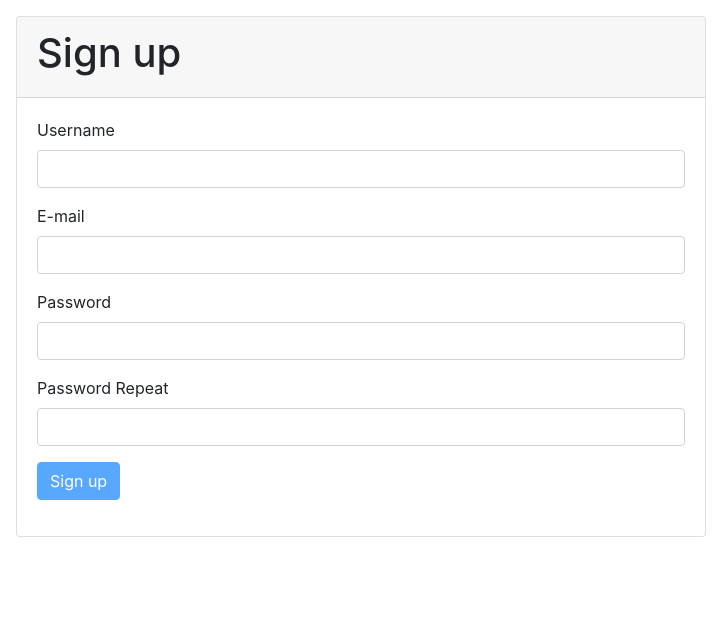
Test: Sign Up › when user sets same value for password inputs › when user submits form › when there is a network error › when user submits again › hides the error when api request in progress
In the field labelled "Username": (361, 169) [37,150,685,188], type "test_user"
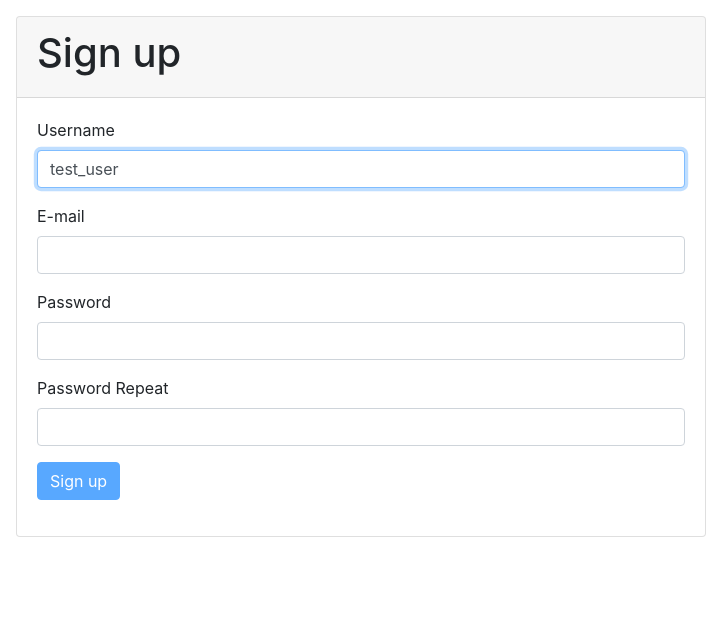
In the field labelled "E-mail": (361, 255) [37,236,685,274], type "text@example.com"
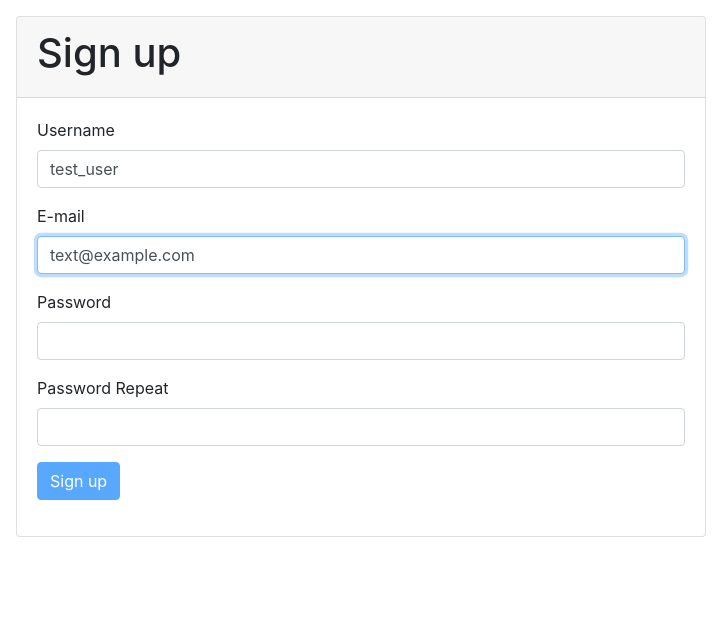
In the password field labelled "Password": (361, 341) [37,322,685,360], type "asdf"
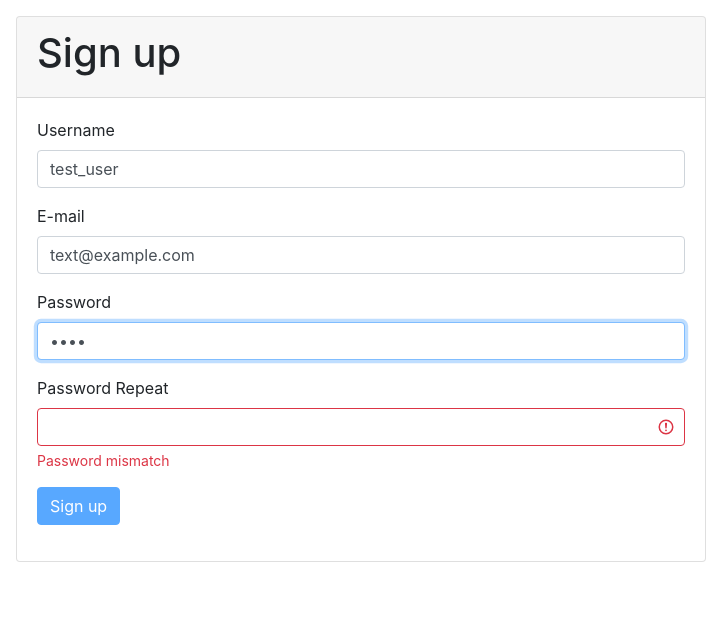
In the password field labelled "Password Repeat": (361, 427) [37,408,685,446], type "asdf"
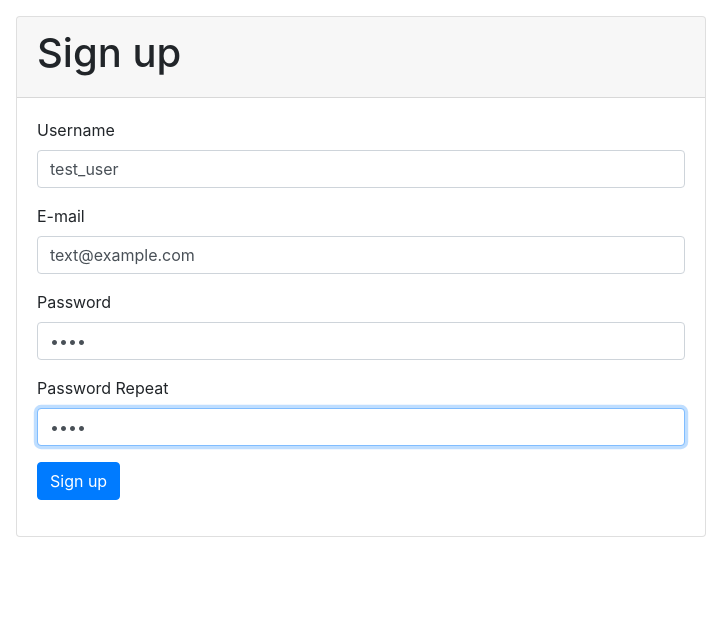
Click the button "Sign up": (79, 481) [37,462,120,500]
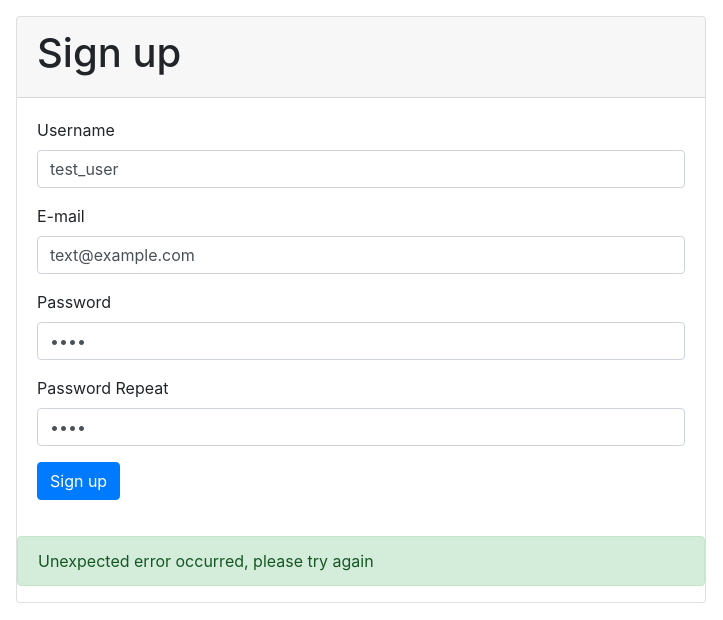
Click the button "Sign up": (79, 481) [37,462,120,500]
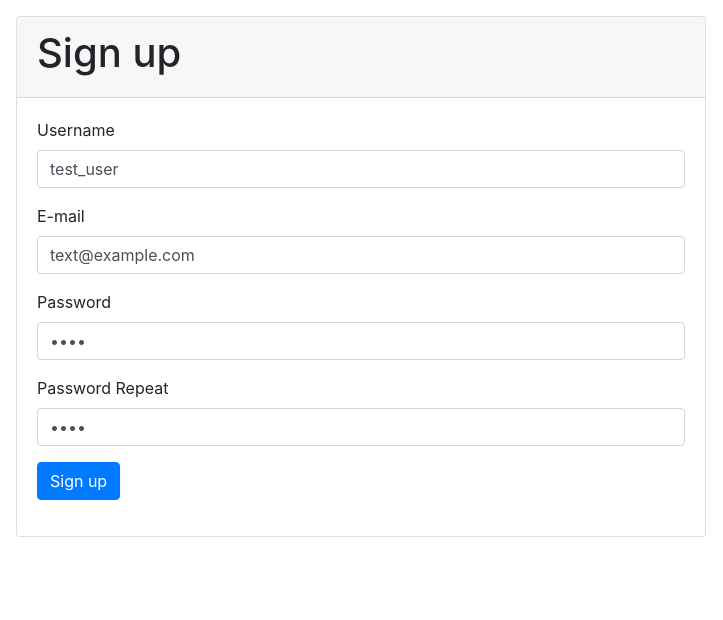
Result: the text "Unexpected error occurred, please try again" is gone
